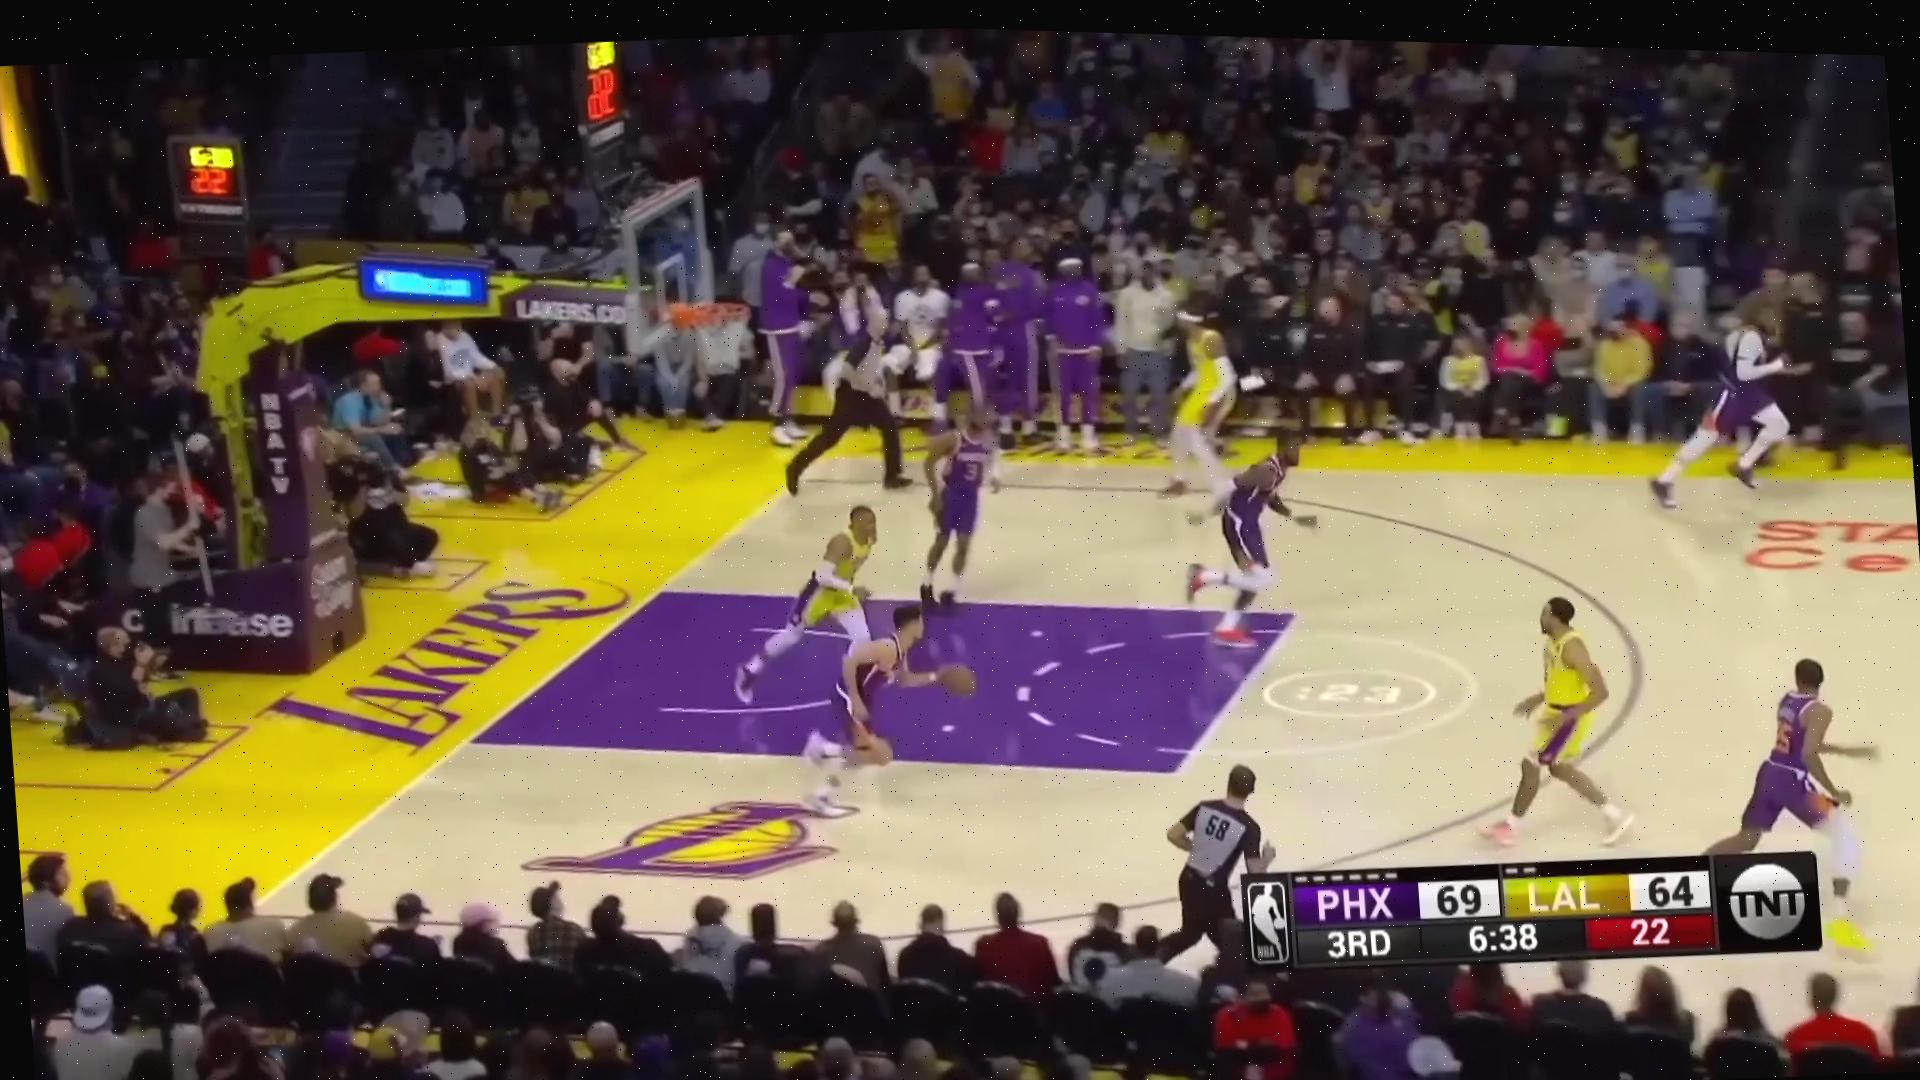no_foul: (684, 469, 985, 818)
